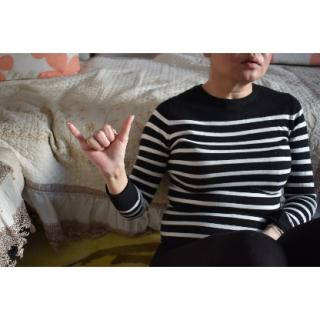YA: (66, 114, 138, 175)
